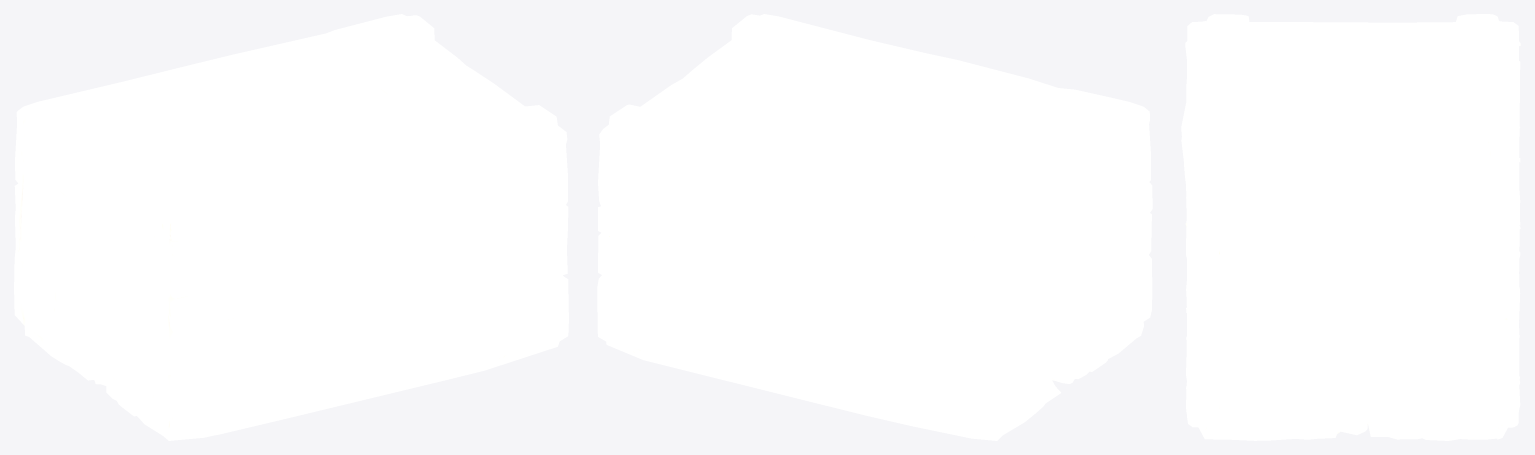
The model's file is crate.glb.
The picture shows the model from 3 angles, left to right: view 1: azimuth 30°, elevation 25°; view 2: azimuth 150°, elevation 25°; view 3: azimuth 270°, elevation 25°; orthographic projection.
Parts seen in each view (by area): view 1: Mesh_0; view 2: Mesh_0; view 3: Mesh_0.
Boxes of the visible parts, left/top/right/bottom form: Mesh_0: left=14, top=14, right=568, bottom=440; Mesh_0: left=597, top=14, right=1152, bottom=440; Mesh_0: left=1181, top=14, right=1520, bottom=440.
Bounding box in the file's own units: 1.9 × 1.06 × 1.39.
Materials: 1 (1 with a texture image).
